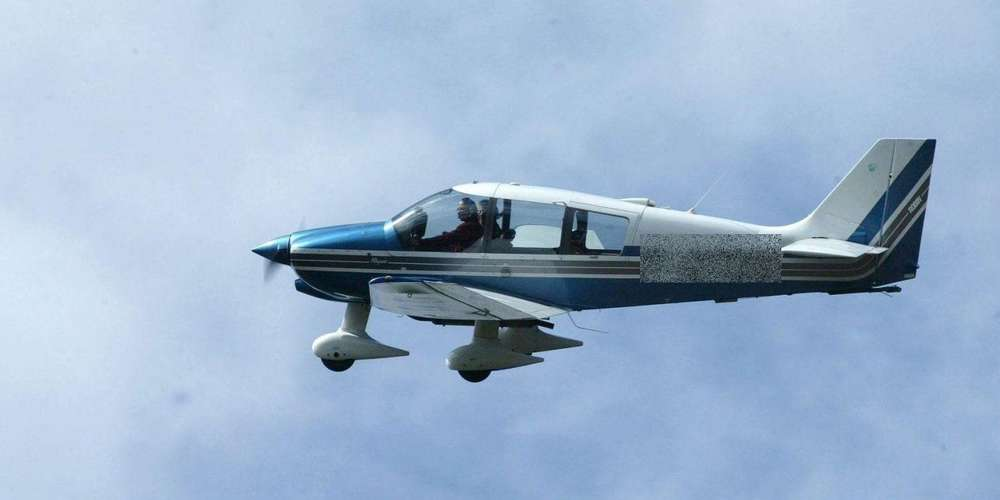Aeronef_de_loisir: (216, 127, 958, 387)
